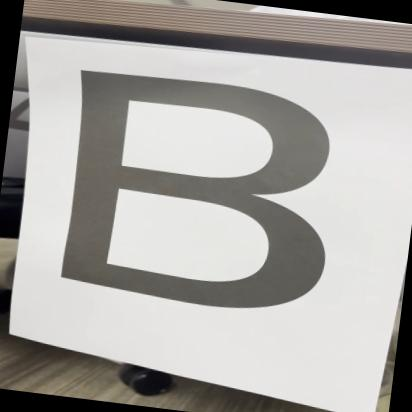seat: (23, 53, 350, 338)
